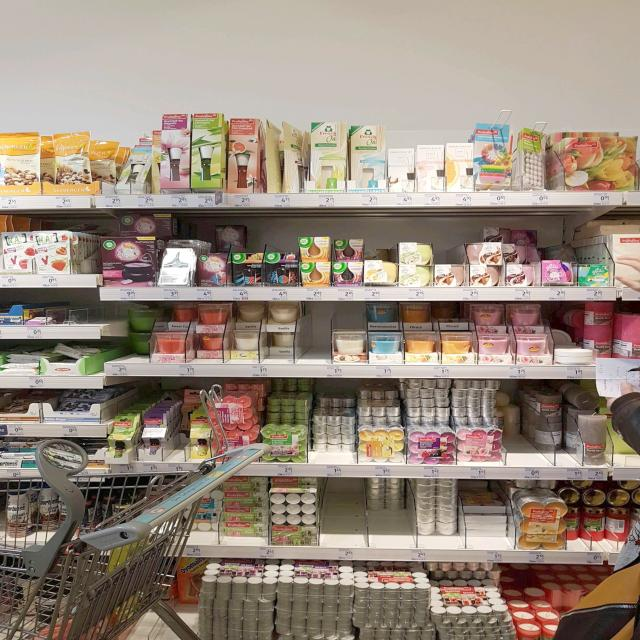empty_space: (329, 484, 363, 544), (304, 311, 329, 361), (380, 506, 406, 546), (514, 431, 540, 461)
